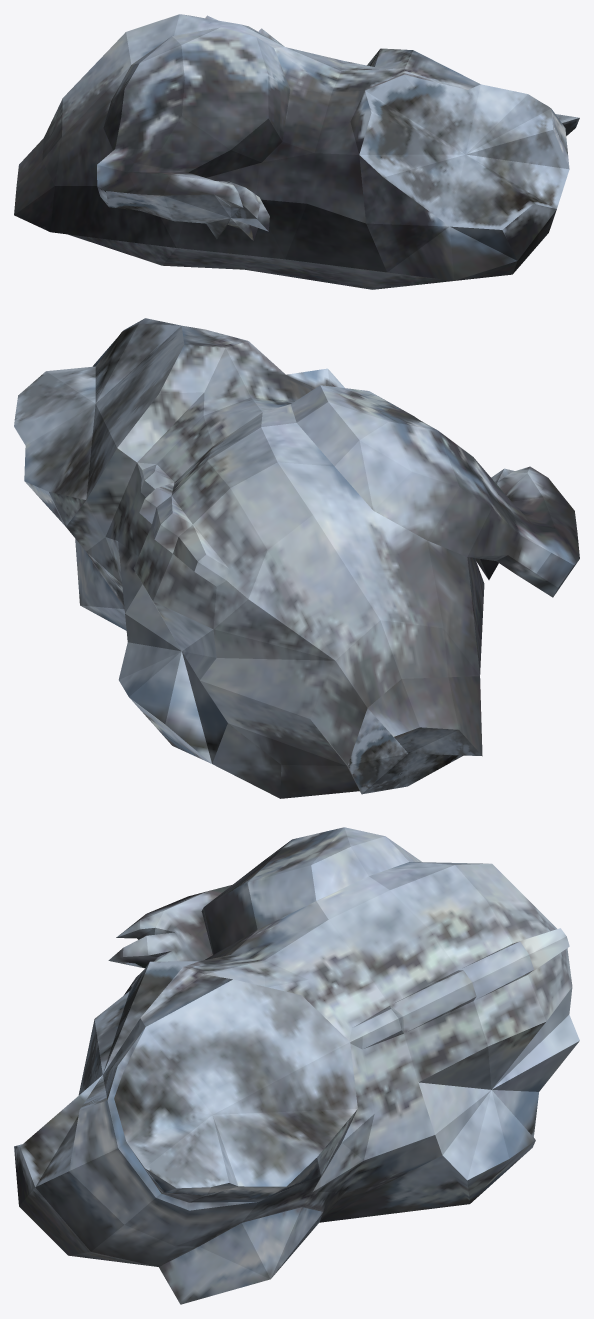
The model's file is ShiZi_Snow_03.FBX.
3 renders of one model, top to bottom at view 1: azimuth 30°, elevation 25°; view 2: azimuth 150°, elevation 25°; view 3: azimuth 270°, elevation 25°, orthographic. The views are drawn at different scales.
Parts seen in each view (by area): view 1: Object005; view 2: Object005; view 3: Object005.
Part boxes in pixels (x1,y1,x2,y2): Object005: [14, 14, 579, 289]; Object005: [14, 318, 579, 798]; Object005: [14, 827, 579, 1304].
Size of the model in its own units: 195 by 101 by 159.
